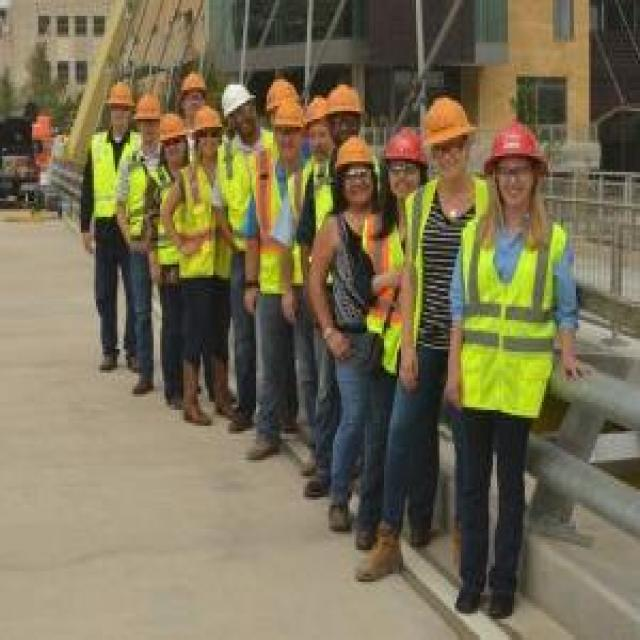Reflective-Jacket: (454, 217, 572, 426), (398, 181, 445, 368), (244, 146, 296, 296), (169, 160, 223, 278), (88, 132, 141, 220), (122, 147, 163, 232)
Safety-Helmet: (486, 119, 548, 169), (422, 95, 476, 148), (264, 76, 305, 134), (382, 124, 429, 167), (322, 79, 365, 119), (333, 135, 375, 172), (216, 84, 256, 119), (188, 103, 223, 137), (102, 79, 134, 111), (300, 96, 332, 128), (154, 113, 191, 140), (130, 92, 164, 121), (179, 69, 207, 98)
